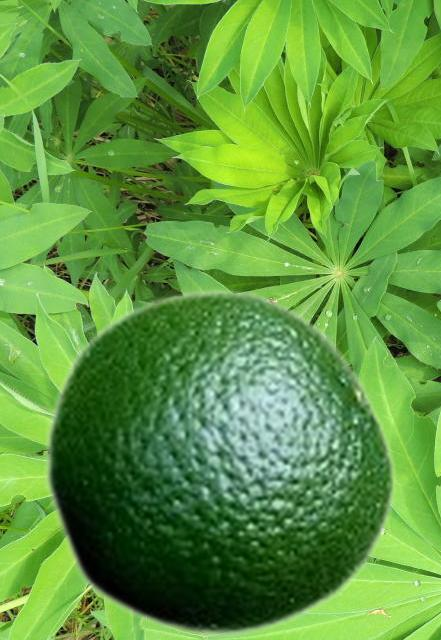calamansi: (42, 287, 397, 638)
